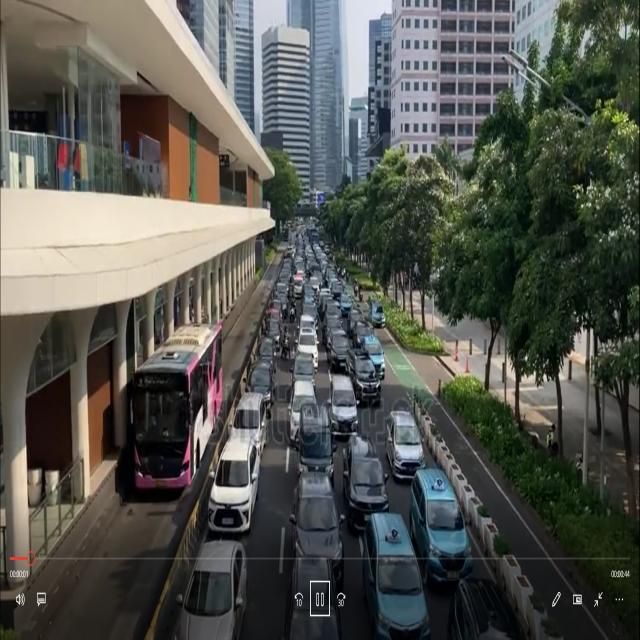Ambulance: (293, 271, 304, 300)
